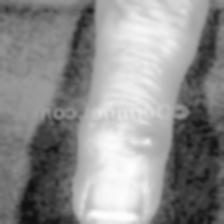Toxin: (108, 132, 182, 162)
